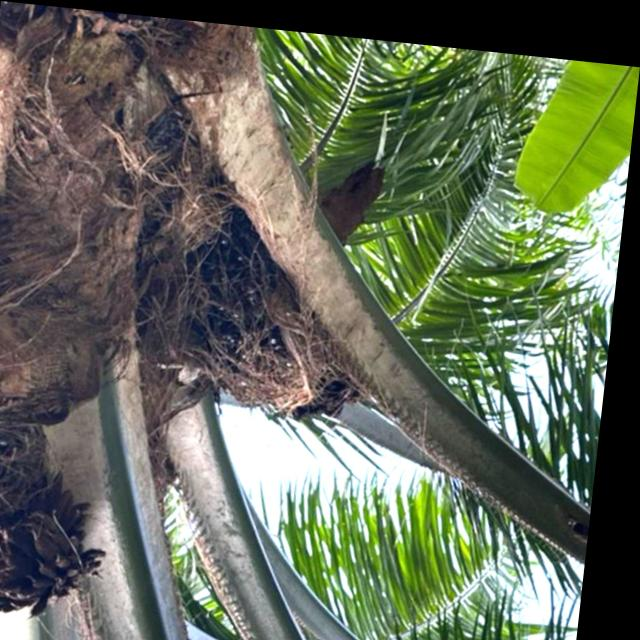unripe: (178, 201, 376, 422), (0, 415, 138, 636)
